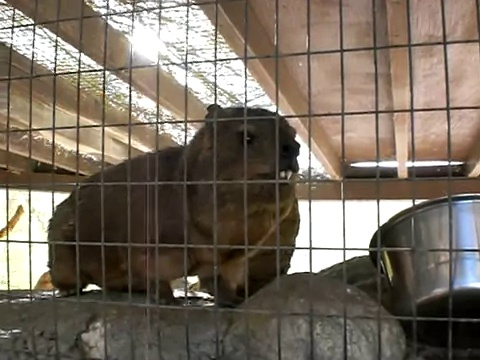Rock Hyrex: (47, 104, 301, 309)
